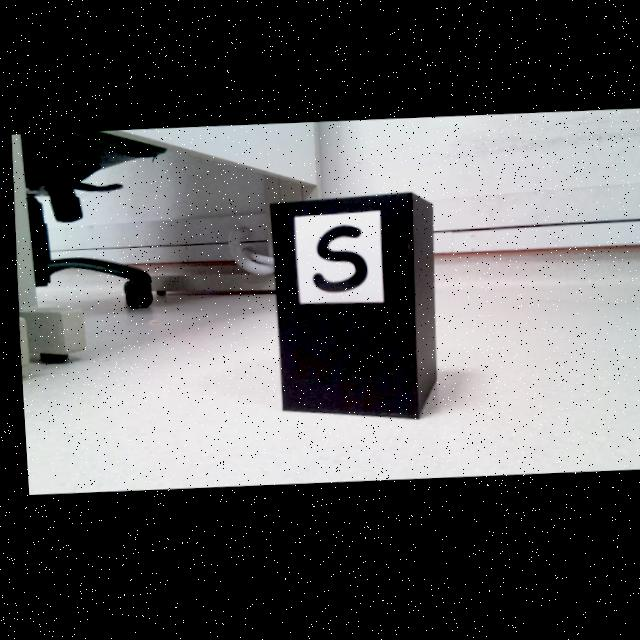S: (307, 230, 363, 299)
